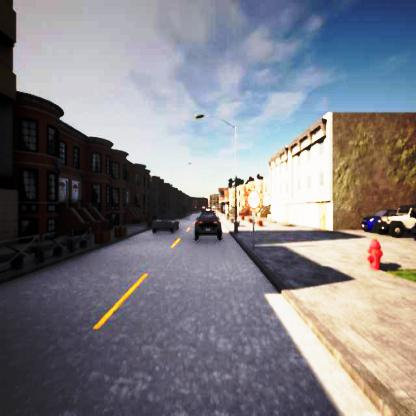vehicle: (363, 206, 415, 238), (193, 212, 221, 240), (154, 215, 178, 233)
